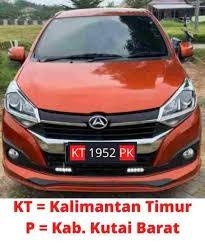plate: (67, 141, 135, 164)
